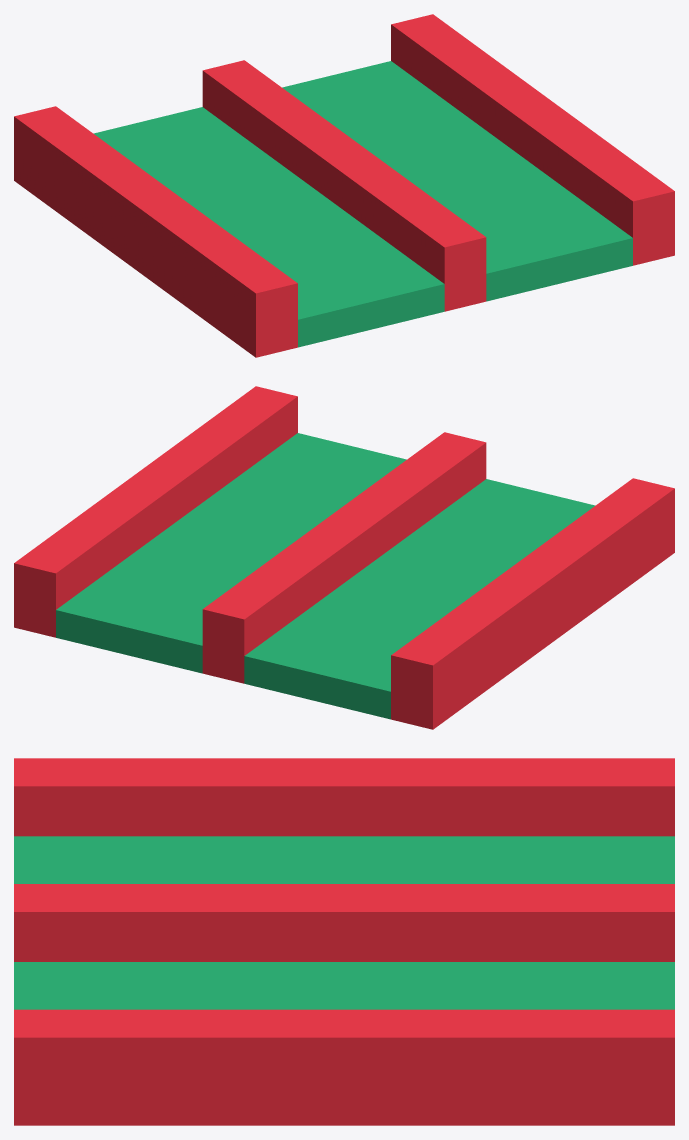
File: split.fbx
The picture shows the model from 3 angles, top to bottom: view 1: azimuth 30°, elevation 25°; view 2: azimuth 150°, elevation 25°; view 3: azimuth 270°, elevation 25°; orthographic projection. The views are drawn at different scales.
Parts seen in each view (by area): view 1: split; view 2: split; view 3: split.
Boxes of the visible parts, bbox=[...] form: split: bbox=[14, 14, 674, 357]; split: bbox=[14, 386, 674, 729]; split: bbox=[14, 758, 674, 1125].
Bounding box in the file's own units: 10 × 1.47 × 10.
